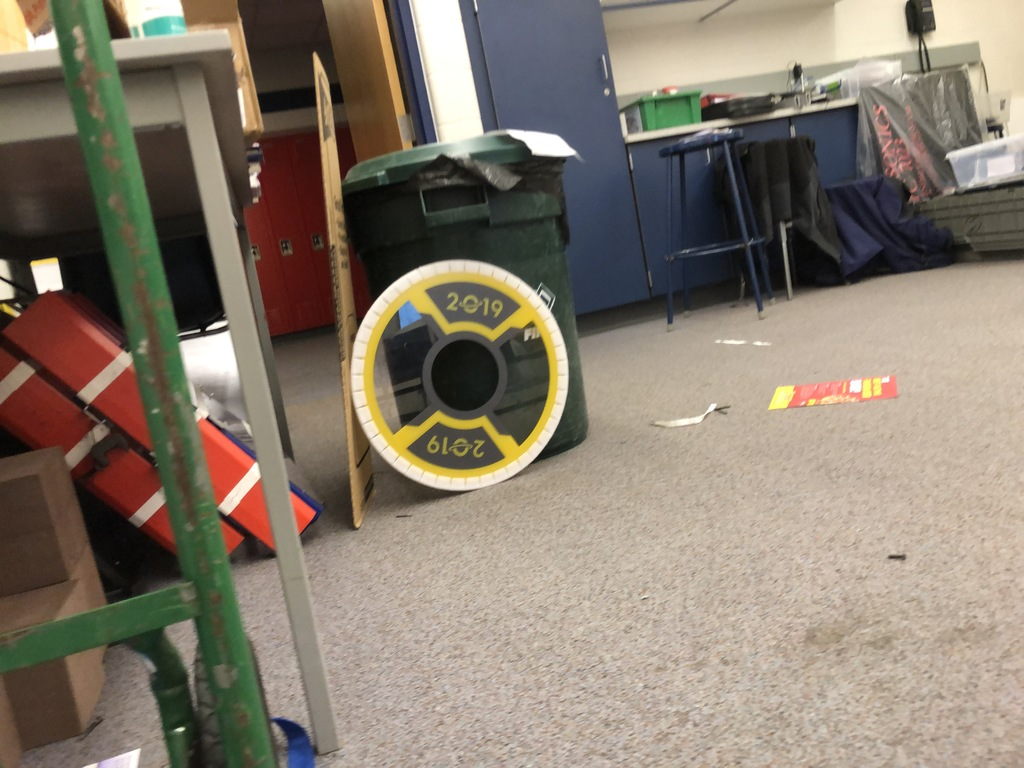hatch_panel: (350, 248, 579, 499)
